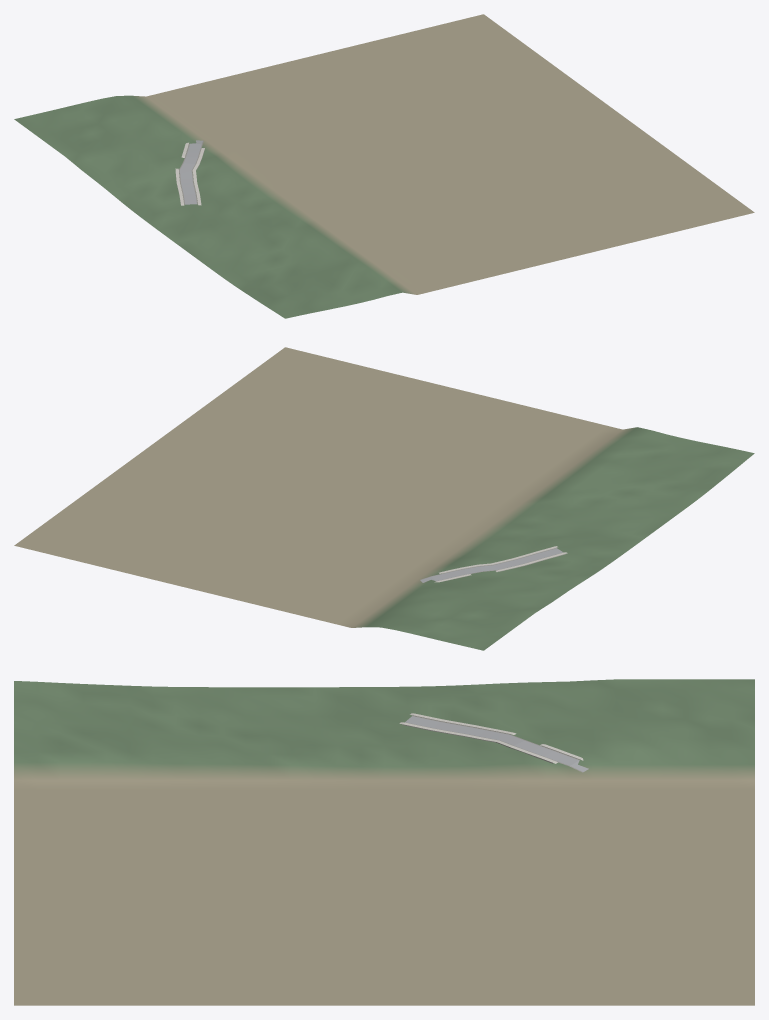
3 views of the same model, one above another, from view 1: azimuth 30°, elevation 25°; view 2: azimuth 150°, elevation 25°; view 3: azimuth 270°, elevation 25° (orthographic). The views are drawn at different scales.
Parts seen in each view (by area): view 1: Terrain-col, Roads-col; view 2: Terrain-col, Roads-col, Sidewalks-col; view 3: Terrain-col, Roads-col, Sidewalks-col.
Part boxes in pixels (x1=…): Terrain-col: x1=14, y1=14, x2=754, y2=318; Roads-col: x1=179, y1=140, x2=203, y2=204; Terrain-col: x1=14, y1=347, x2=754, y2=650; Roads-col: x1=420, y1=548, x2=563, y2=582; Sidewalks-col: x1=434, y1=546, x2=567, y2=582; Terrain-col: x1=14, y1=679, x2=754, y2=1005; Roads-col: x1=405, y1=715, x2=588, y2=772; Sidewalks-col: x1=399, y1=713, x2=583, y2=763.
Size of the model in its own units: 256 by 4.97 by 256.
